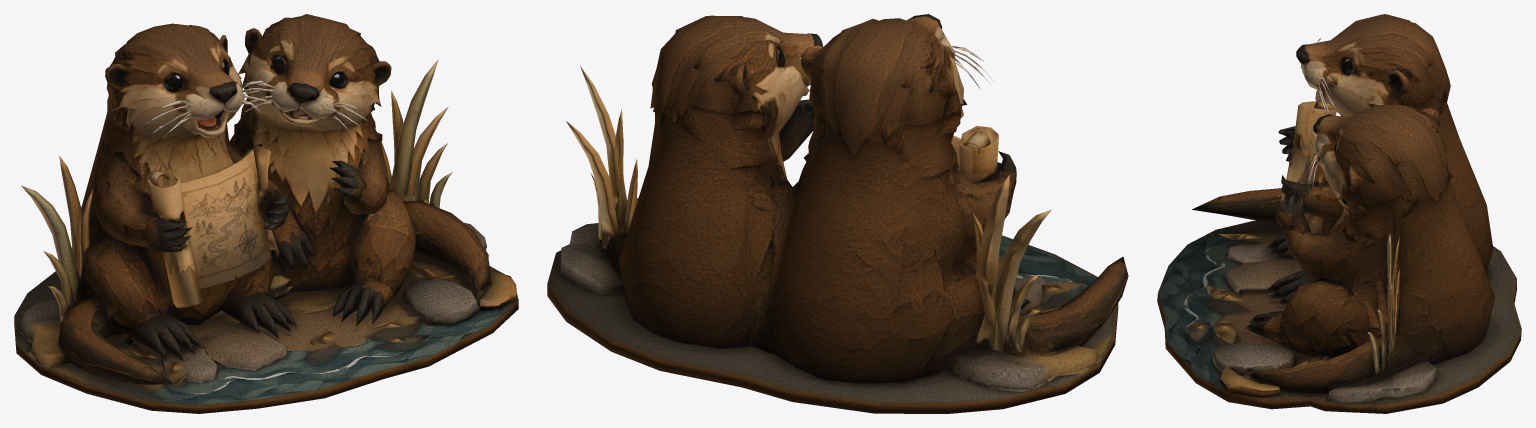
File: hero.glb
3 renders of one model, left to right at view 1: azimuth 30°, elevation 25°; view 2: azimuth 150°, elevation 25°; view 3: azimuth 270°, elevation 25°, orthographic. The views are drawn at different scales.
Parts seen in each view (by area): view 1: tripo_node_113168d6-00f5-48ec-aff9-36a0832f032c; view 2: tripo_node_113168d6-00f5-48ec-aff9-36a0832f032c; view 3: tripo_node_113168d6-00f5-48ec-aff9-36a0832f032c.
Part boxes in pixels (x1,y1,x2,y2): tripo_node_113168d6-00f5-48ec-aff9-36a0832f032c: (14, 14, 518, 413); tripo_node_113168d6-00f5-48ec-aff9-36a0832f032c: (547, 14, 1128, 413); tripo_node_113168d6-00f5-48ec-aff9-36a0832f032c: (1157, 14, 1521, 413).
Size of the model in its own units: 0.998 by 0.6074 by 0.752.
Materials: 1 (1 with a texture image).
